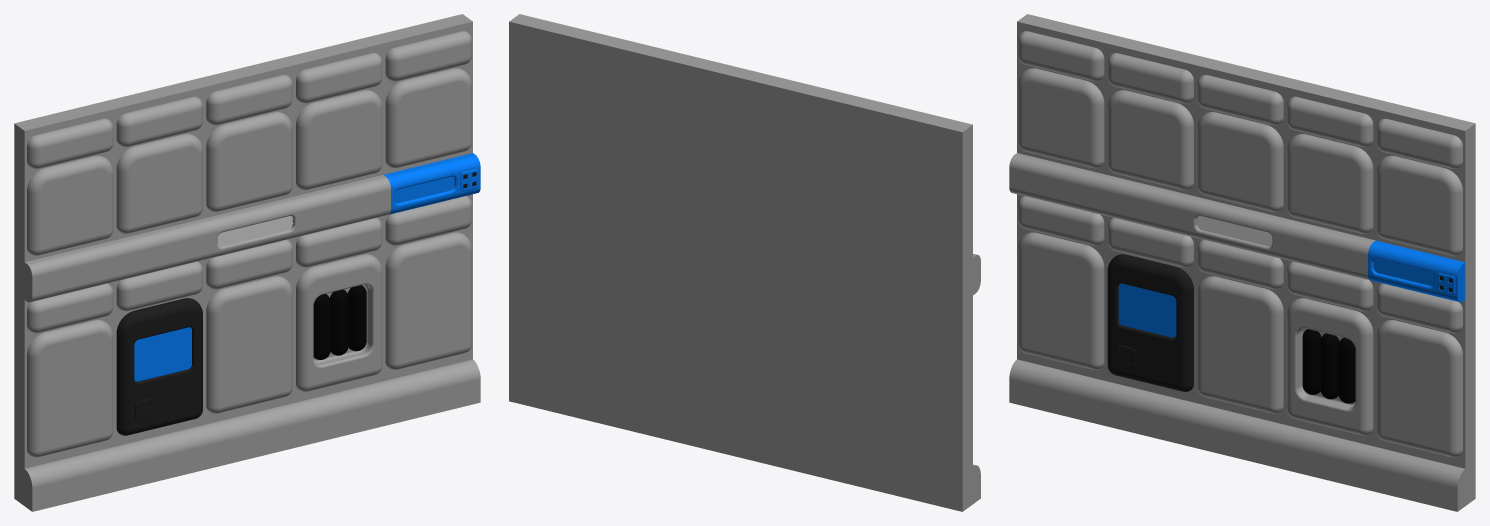
The model's file is Doom Wall.fbx.
3 views of the same model, side by side, from view 1: azimuth 30°, elevation 25°; view 2: azimuth 150°, elevation 25°; view 3: azimuth 330°, elevation 25° (orthographic).
Parts seen in each view (by area): view 1: Back, Tallpanel (2), Tallpanel (2) (1), Tallpanel, Tallpanel (B), Shortpanel (4), Shortpanel (3), Shortpanel, Shortpanel (2), Shortpanel (1), Tallpanel (C Frame), Bottom (+22 smaller); view 2: Back; view 3: Back, Tallpanel, Tallpanel (2), Tallpanel (B), Tallpanel (2) (1), Shortpanel, Shortpanel (1), Shortpanel (4), Shortpanel (3), Shortpanel (2), Tallpanel (C Frame), Bottom (4) (+22 smaller).
Part boxes in pixels (x1=…): Back: x1=14, y1=14, x2=472, y2=505; Tallpanel (2): x1=206, y1=276, x2=292, y2=413; Tallpanel (2) (1): x1=385, y1=232, x2=471, y2=369; Tallpanel: x1=27, y1=320, x2=113, y2=457; Tallpanel (B): x1=116, y1=298, x2=202, y2=435; Shortpanel (4): x1=385, y1=68, x2=471, y2=168; Shortpanel (3): x1=296, y1=90, x2=382, y2=190; Shortpanel: x1=27, y1=155, x2=113, y2=255; Shortpanel (2): x1=206, y1=112, x2=292, y2=211; Shortpanel (1): x1=116, y1=134, x2=202, y2=233; Tallpanel (C Frame): x1=296, y1=254, x2=382, y2=391; Bottom: x1=24, y1=447, x2=121, y2=511; Back: x1=509, y1=14, x2=972, y2=511; Back: x1=1017, y1=14, x2=1475, y2=505; Tallpanel: x1=1018, y1=232, x2=1104, y2=369; Tallpanel (2): x1=1197, y1=276, x2=1283, y2=413; Tallpanel (B): x1=1107, y1=254, x2=1193, y2=391; Tallpanel (2) (1): x1=1376, y1=320, x2=1462, y2=457; Shortpanel: x1=1018, y1=68, x2=1104, y2=168; Shortpanel (1): x1=1107, y1=90, x2=1193, y2=190; Shortpanel (4): x1=1376, y1=155, x2=1462, y2=255; Shortpanel (3): x1=1287, y1=134, x2=1373, y2=233; Shortpanel (2): x1=1197, y1=112, x2=1283, y2=211; Tallpanel (C Frame): x1=1287, y1=298, x2=1373, y2=435; Bottom (4): x1=1368, y1=447, x2=1465, y2=511.
Size of the model in its own units: 500 by 400 by 36.
